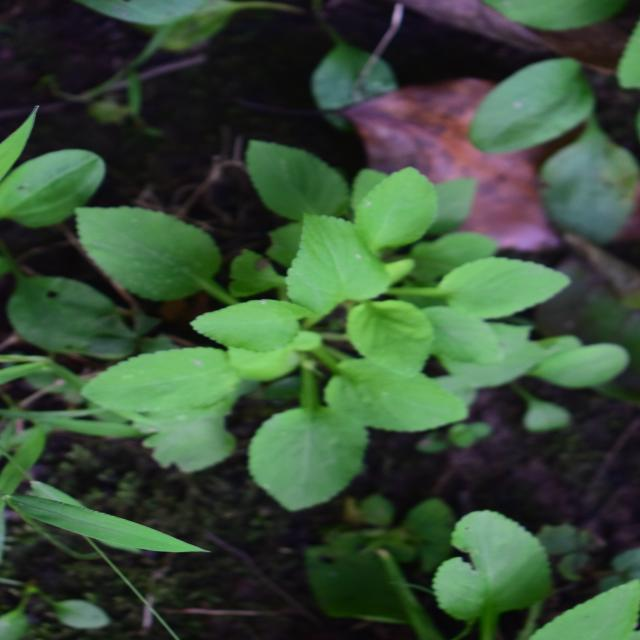Viola: (226, 147, 478, 532)
